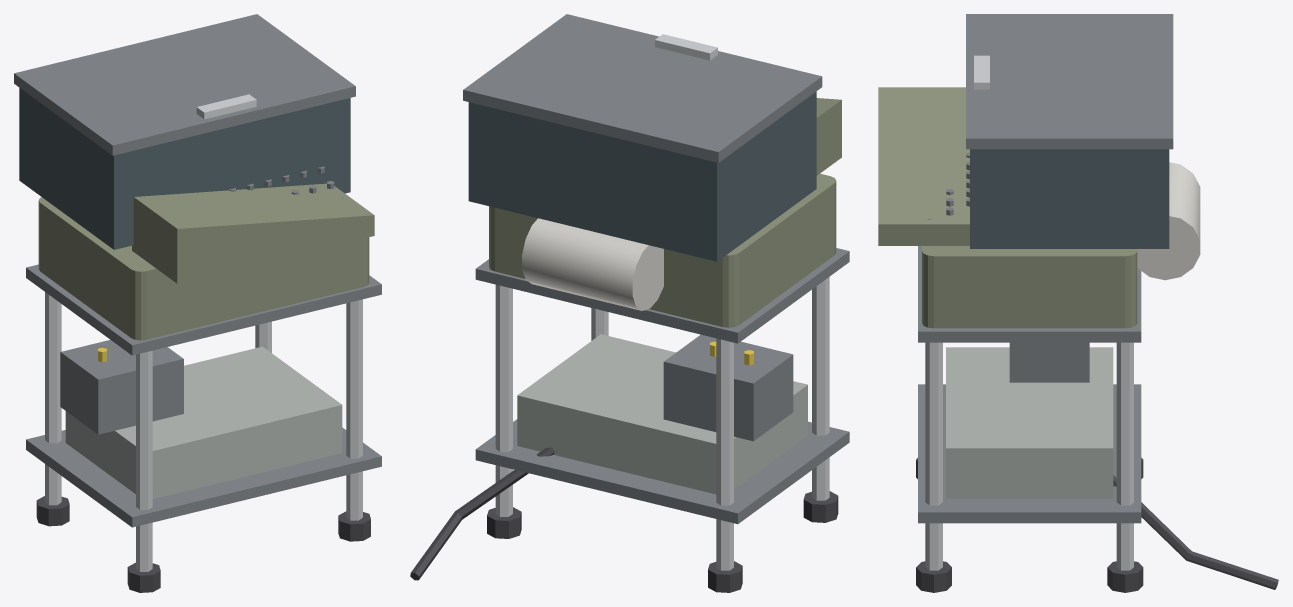
Rendered from cold-war-missile-silo-and-command-bunker-teletype-mach-5fba0b7d__15686.glb.
3 views of the same model, side by side, from view 1: azimuth 30°, elevation 25°; view 2: azimuth 150°, elevation 25°; view 3: azimuth 270°, elevation 25° (orthographic). The views are drawn at different scales.
Visible parts, largest first — view 1: teletype-machine; view 2: teletype-machine; view 3: teletype-machine.
Boxes of the visible parts, bbox=[...] form: teletype-machine: bbox=[14, 14, 381, 592]; teletype-machine: bbox=[410, 14, 849, 592]; teletype-machine: bbox=[878, 14, 1278, 592].
Size of the model in its own units: 0.76 by 1.28 by 1.
